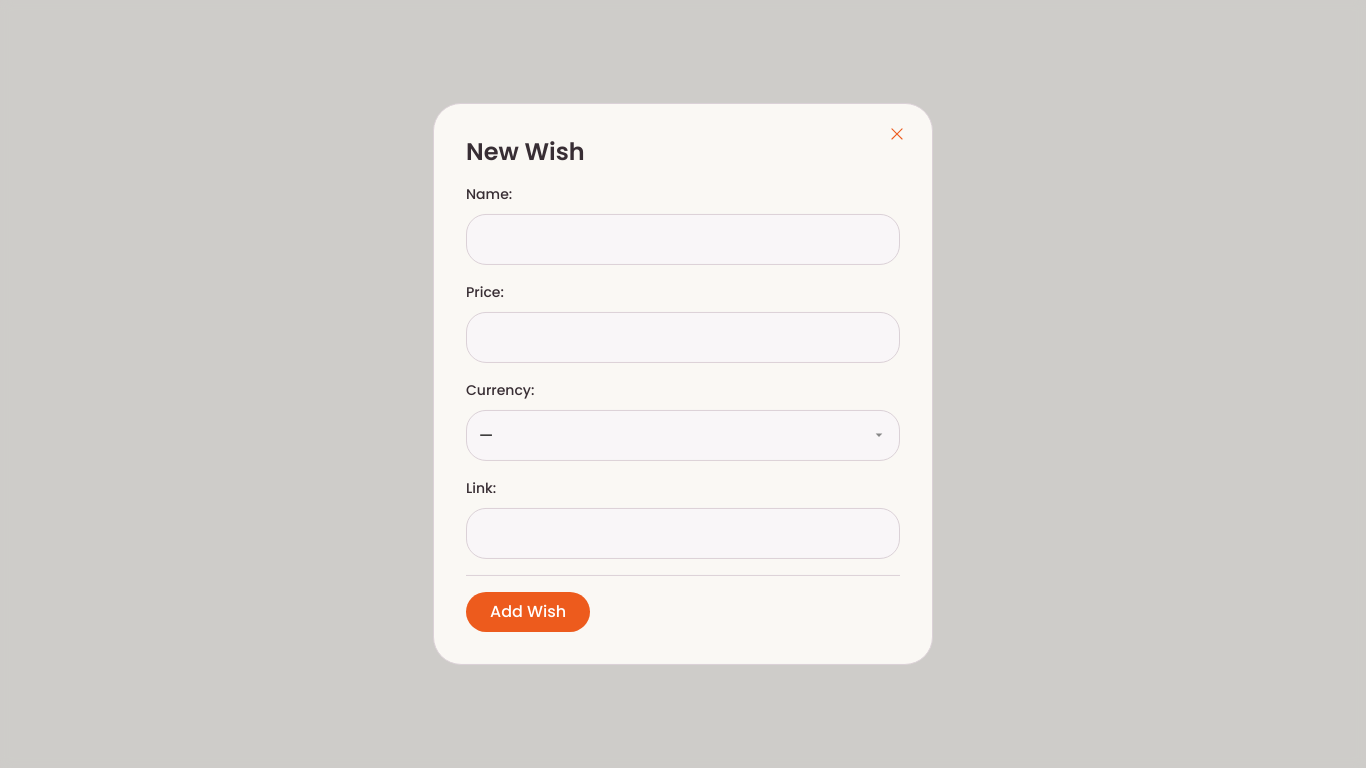
it: ItemModal › add mode › clears error on blur
Click the button with test id "add-item-modal-submit-button" at (528, 612), box top-left (466, 592), bottom-right (590, 632)
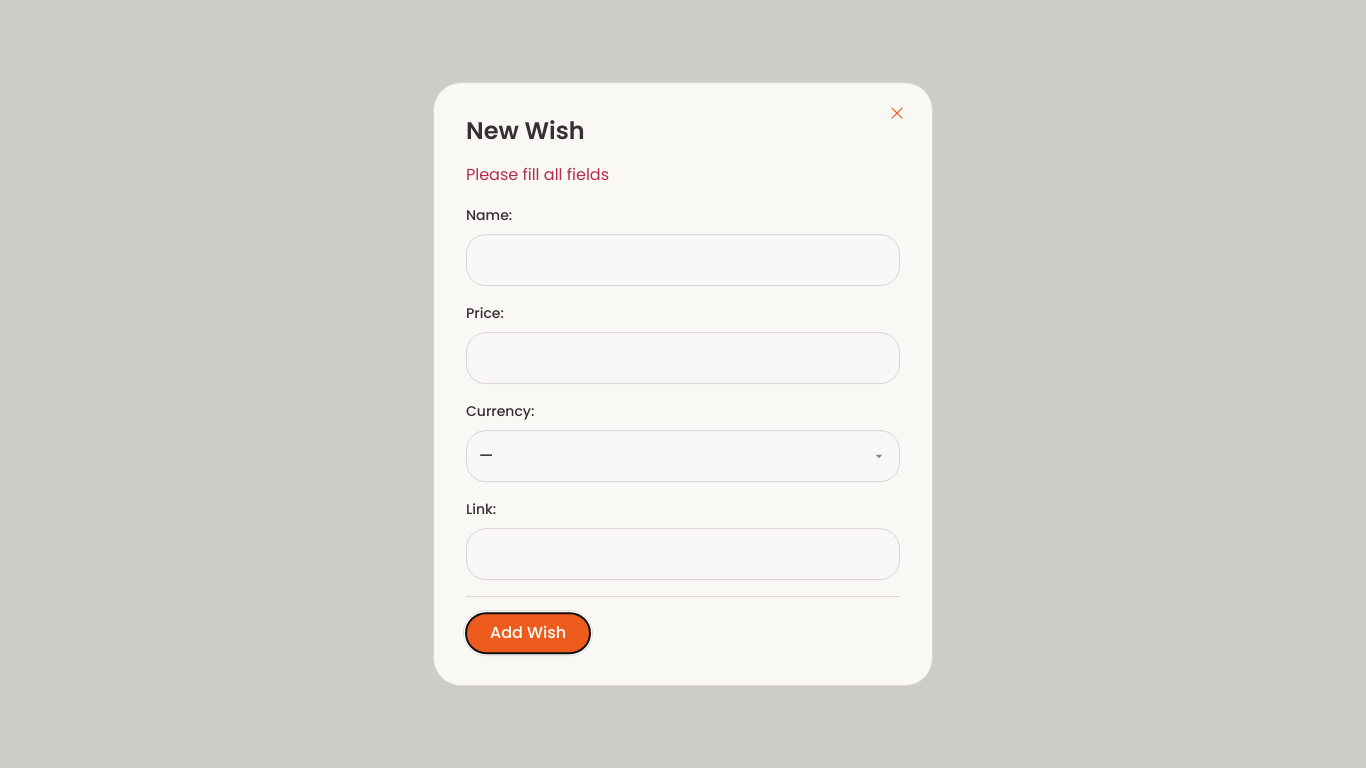
Now the message "Please fill all fields" is shown, box top-left (466, 163), bottom-right (609, 186)
Click the field with test id "add-item-modal-name-input" at (683, 260), box top-left (466, 234), bottom-right (900, 286)
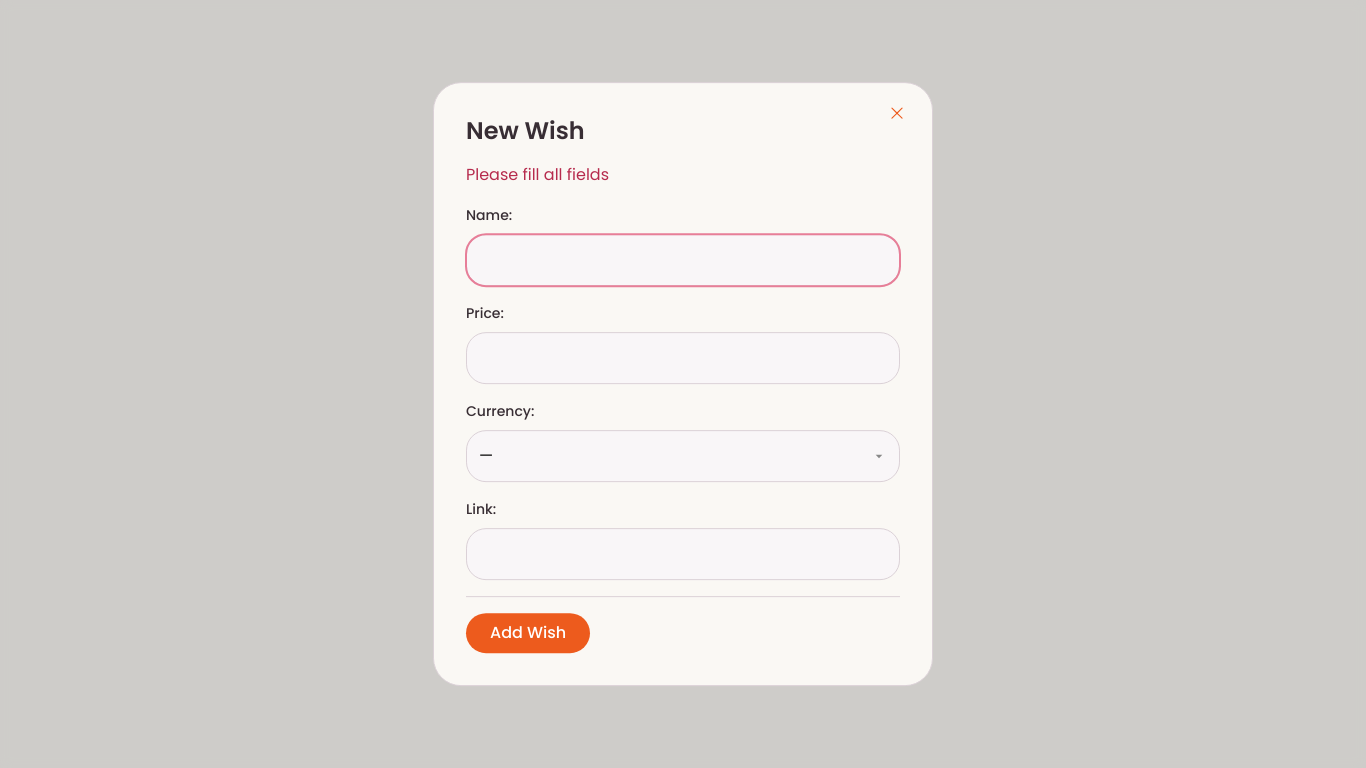
Press Tab
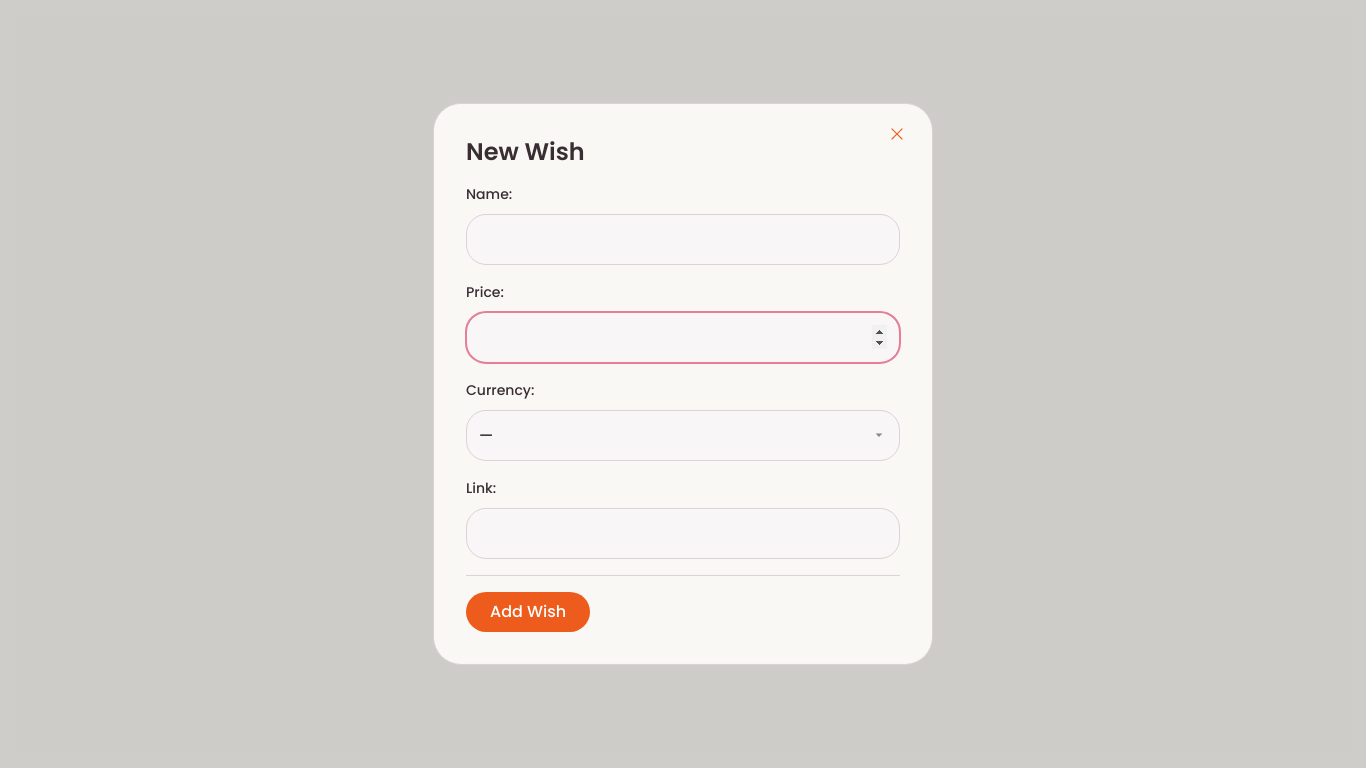
Now the message with test id "error-message" is gone
